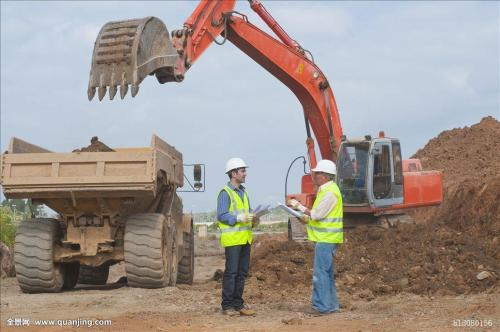boots: (239, 307, 256, 315), (223, 308, 240, 315)
gloves: (237, 213, 254, 223), (293, 203, 307, 212), (298, 214, 310, 224), (252, 216, 260, 228)
hard-hat: (311, 158, 337, 175), (223, 157, 249, 174)
person: (286, 158, 344, 314), (216, 156, 260, 315)
vest: (305, 180, 344, 243), (216, 183, 254, 247)
